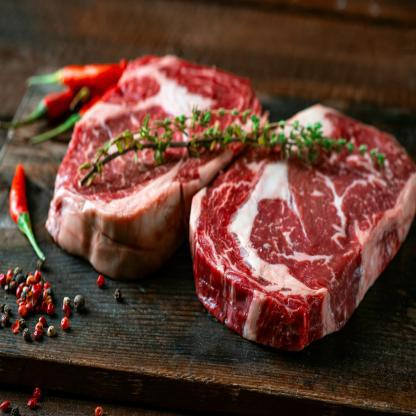beef: (220, 168, 369, 348), (69, 70, 210, 228)
